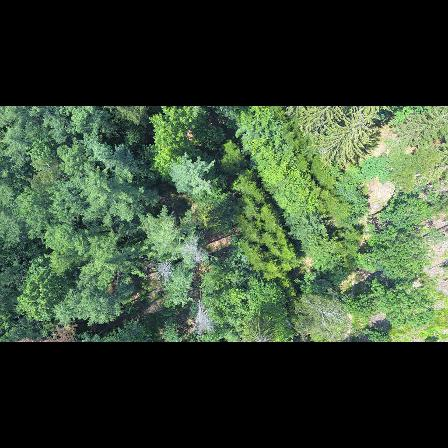Dead: (139, 257, 180, 283), (189, 294, 212, 336)
Sick: (247, 329, 274, 342)
